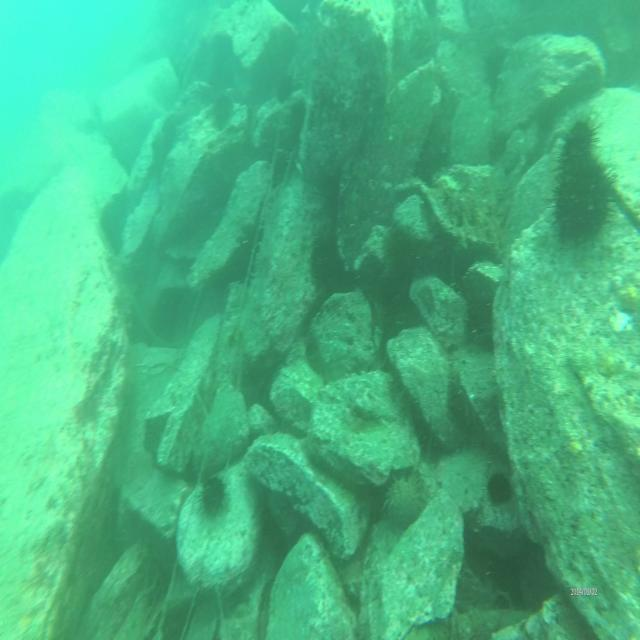echinus: (548, 156, 619, 242), (554, 106, 600, 185), (381, 470, 430, 529), (480, 457, 518, 516), (193, 475, 233, 523), (212, 91, 236, 135), (271, 71, 295, 102)
holothurian: (169, 373, 224, 472)
